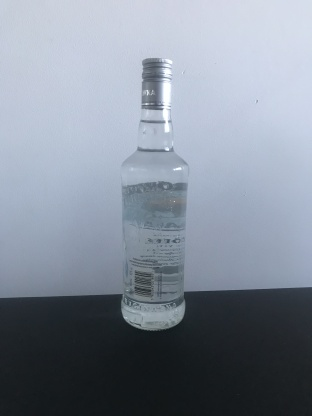nakretka: (140, 55, 174, 112)
